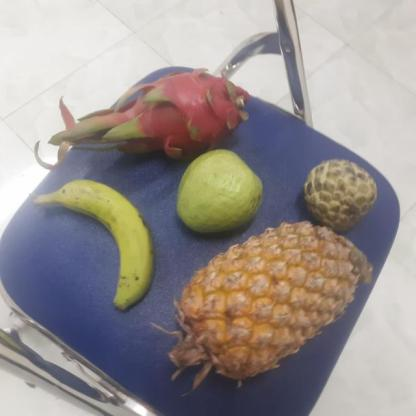annona: (300, 160, 378, 233)
banana: (46, 182, 150, 306)
guava: (172, 148, 265, 234)
pineapple: (168, 226, 361, 373)
pitaya: (104, 64, 248, 156)
